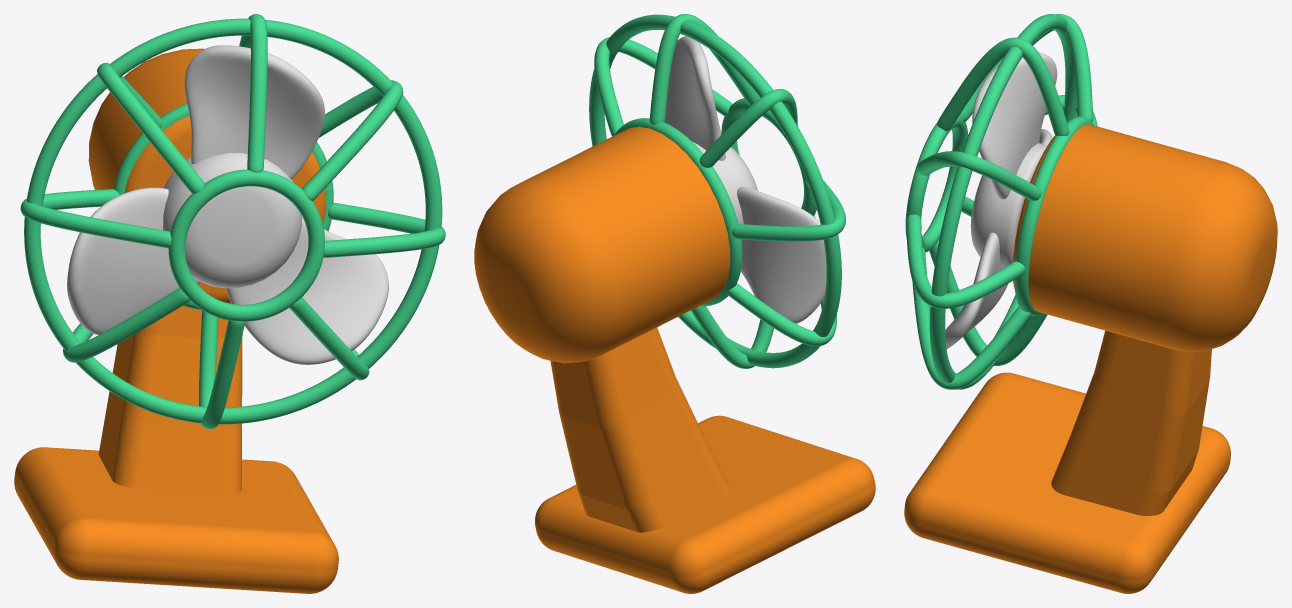
The model's file is fan-3d-icon-828387303243.glb.
3 views of the same model, side by side, from view 1: azimuth 30°, elevation 25°; view 2: azimuth 150°, elevation 25°; view 3: azimuth 270°, elevation 25° (orthographic). The views are drawn at different scales.
Visible parts, largest first — view 1: Stand, Cover, Fan; view 2: Stand, Cover, Fan; view 3: Stand, Cover, Fan.
Part boxes in pixels (<box>): Stand: <box>14,48,338,593</box>; Cover: <box>20,14,445,428</box>; Fan: <box>67,45,388,364</box>; Stand: <box>474,126,875,593</box>; Cover: <box>589,14,845,368</box>; Fan: <box>664,36,826,323</box>; Stand: <box>904,124,1277,593</box>; Cover: <box>905,14,1097,389</box>; Fan: <box>945,52,1057,349</box>.
Size of the model in its own units: 2.18 by 3.39 by 2.2.
